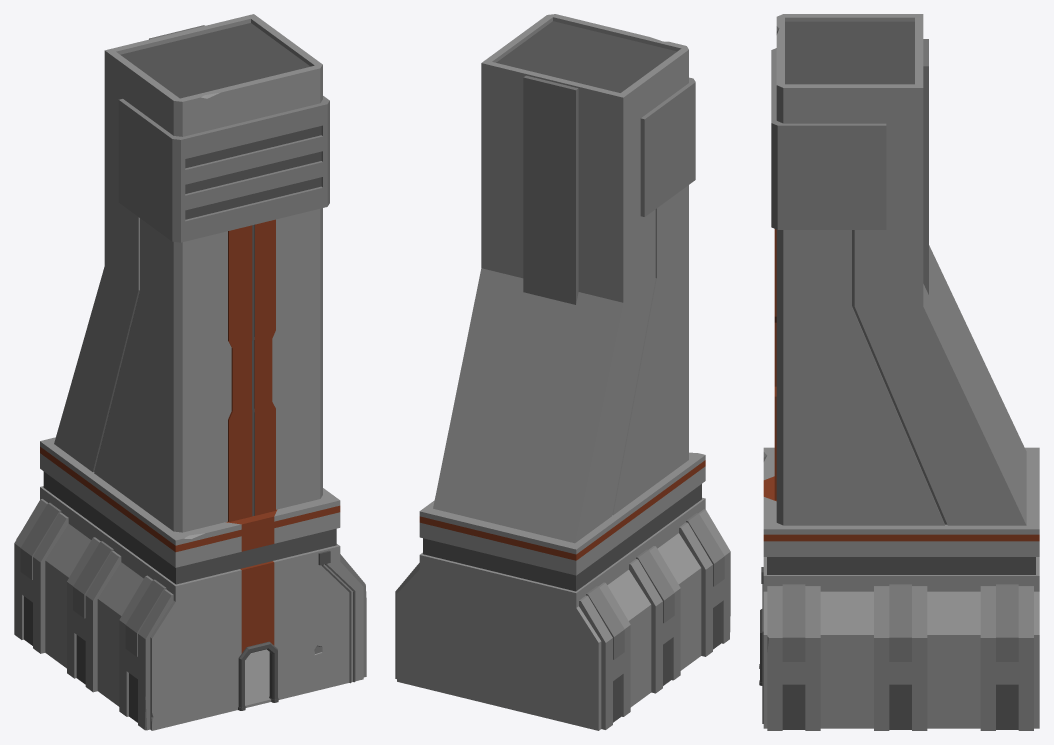
Rendered from SM_Building_08.fbx.
3 views of the same model, side by side, from view 1: azimuth 30°, elevation 25°; view 2: azimuth 150°, elevation 25°; view 3: azimuth 270°, elevation 25° (orthographic). The views are drawn at different scales.
Parts seen in each view (by area): view 1: SM_Building_08; view 2: SM_Building_08; view 3: SM_Building_08.
Part boxes in pixels (bbox=[...]): SM_Building_08: bbox=[14, 14, 366, 730]; SM_Building_08: bbox=[395, 14, 730, 730]; SM_Building_08: bbox=[759, 14, 1039, 730].
Bounding box in the file's own units: 950 × 2500 × 1015.
